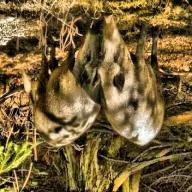boar: (22, 14, 116, 155), (93, 0, 170, 150)
